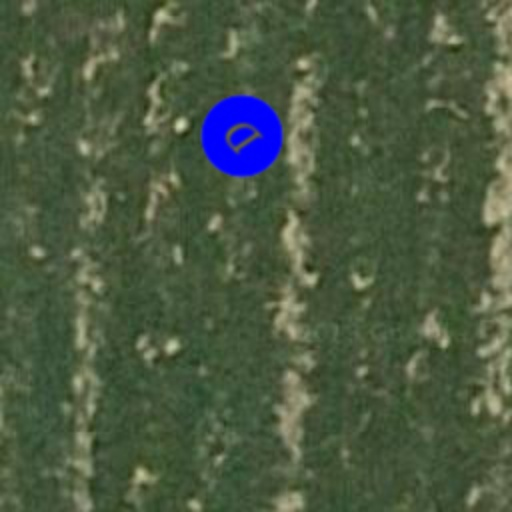circle: (184, 78, 300, 194)
